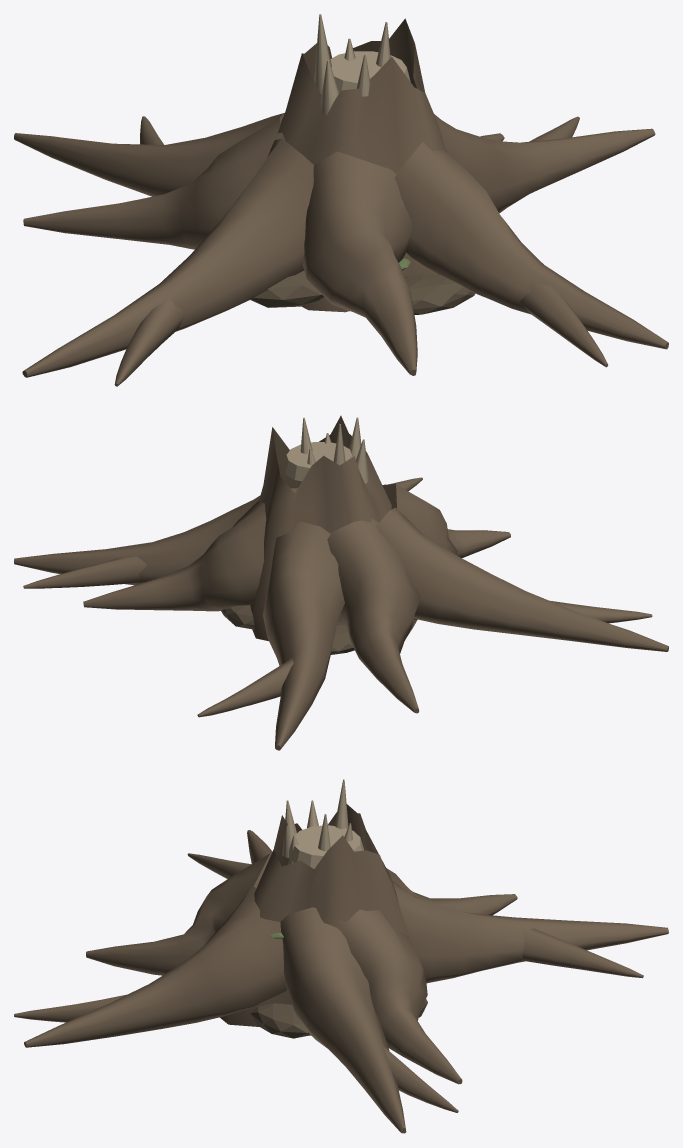
Rendered from exposed_roots.glb.
3 views of the same model, one above another, from view 1: azimuth 30°, elevation 25°; view 2: azimuth 150°, elevation 25°; view 3: azimuth 270°, elevation 25° (orthographic). The views are drawn at different scales.
Visible parts, largest first — view 1: exposed_roots_mesh; view 2: exposed_roots_mesh; view 3: exposed_roots_mesh.
Boxes of the visible parts, <box> form: exposed_roots_mesh: <box>14,14,668,386</box>; exposed_roots_mesh: <box>14,415,668,750</box>; exposed_roots_mesh: <box>14,779,668,1133</box>.
Size of the model in its own units: 1.39 by 0.4501 by 1.28.
